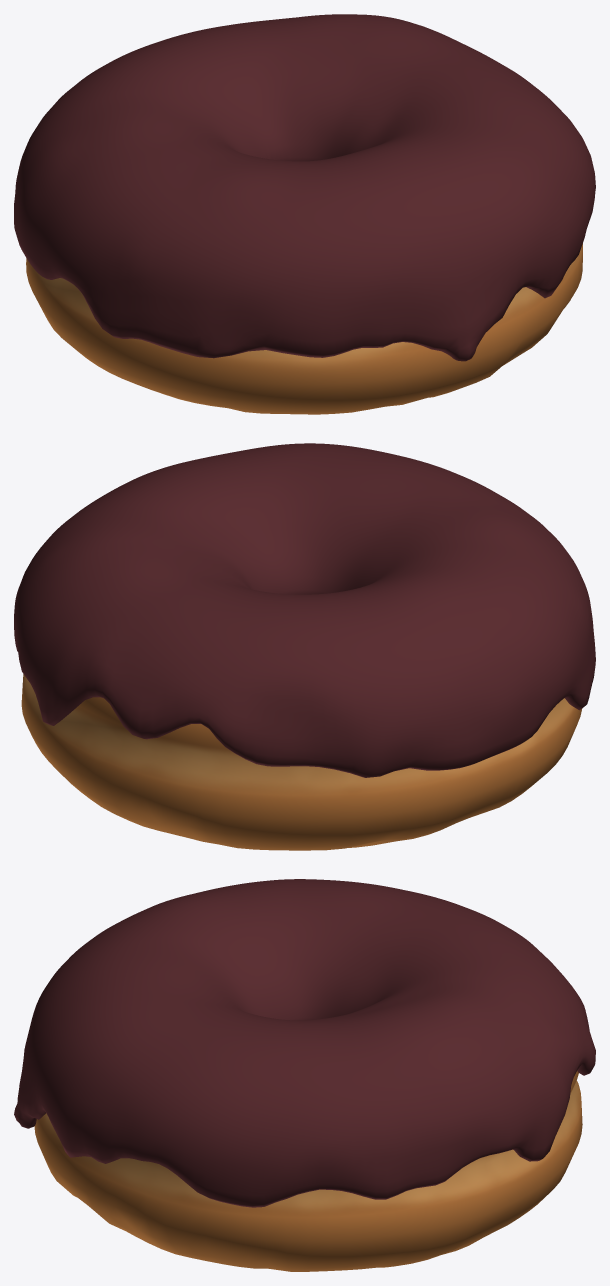
The model's file is donut2.glb.
3 renders of one model, top to bottom at view 1: azimuth 30°, elevation 25°; view 2: azimuth 150°, elevation 25°; view 3: azimuth 270°, elevation 25°, orthographic. The views are drawn at different scales.
Visible parts, largest first — view 1: Icing, Dough; view 2: Icing, Dough; view 3: Icing, Dough.
Part boxes in pixels (x1,y1,x2,y2): Icing: (14,14,595,361); Dough: (26,243,582,414); Icing: (14,443,595,777); Dough: (21,674,582,850); Icing: (14,879,595,1207); Dough: (34,1071,582,1271).
Bounding box in the file's own units: 0.9958 × 0.4563 × 1.02.
3 materials, 1 textured.
